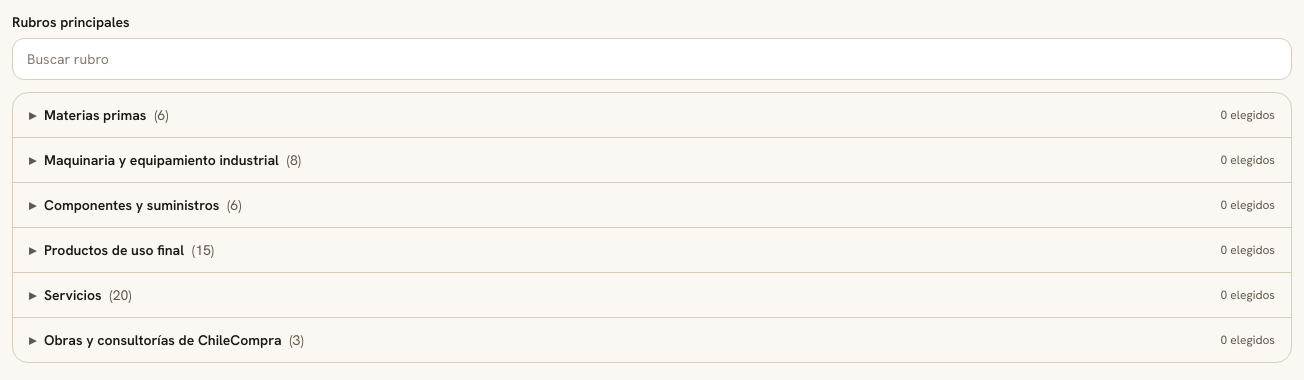
Test case: SectorSelect › encuentra un rubro con tilde aunque el filtro no la lleve
Type "TECNOLOGIA" into the search field with placeholder "Buscar rubro".
click(652, 59); type("TECNOLOGIA")  # box [12,38,1292,80]
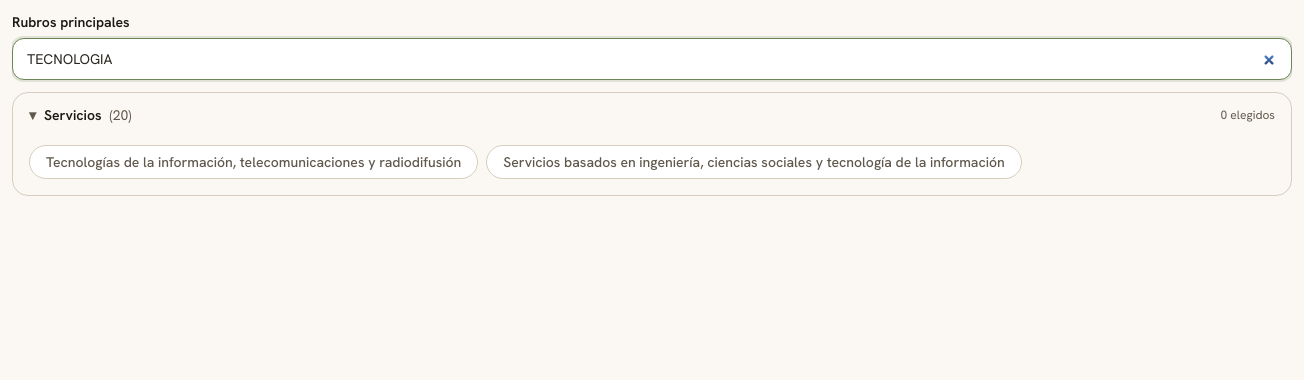
Check: the button "Tecnologías de la información, telecomunicaciones y radiodifusión" is shown, box [29,145,478,179]
